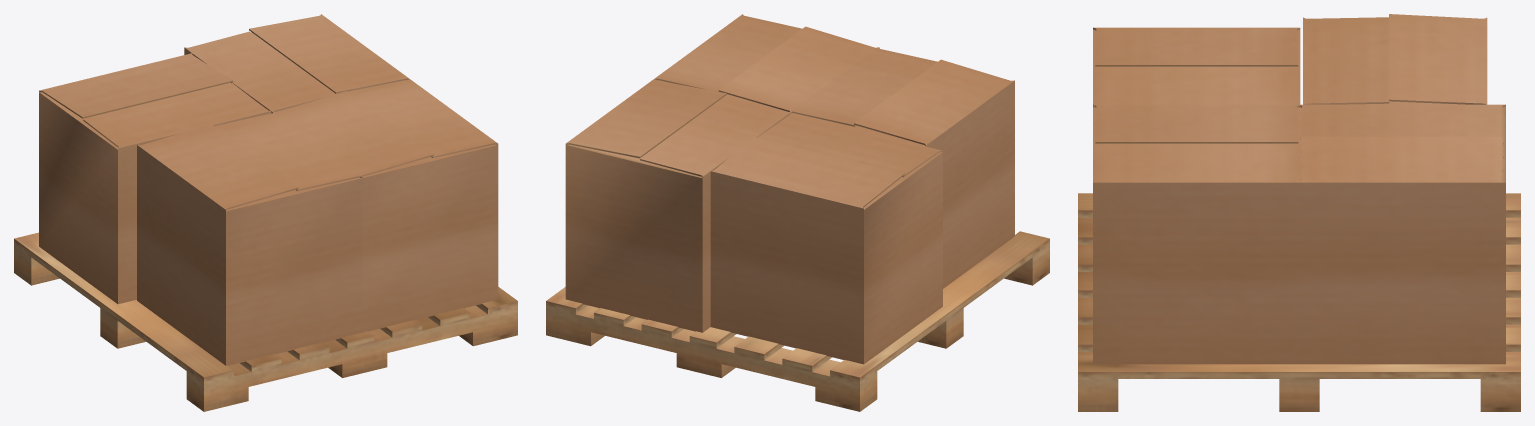
The model's file is Paleta1.fbx.
3 views of the same model, side by side, from view 1: azimuth 30°, elevation 25°; view 2: azimuth 150°, elevation 25°; view 3: azimuth 270°, elevation 25° (orthographic). The views are drawn at different scales.
Visible parts, largest first — view 1: Paleta1, palet1; view 2: Paleta1, palet1; view 3: Paleta1, palet1.
Boxes of the visible parts, x1,y1,x2,y2 form: Paleta1: (39, 14, 498, 365); palet1: (14, 232, 517, 411); Paleta1: (565, 14, 1014, 364); palet1: (546, 231, 1049, 411); Paleta1: (1093, 14, 1505, 364); palet1: (1078, 193, 1520, 411).
Bounding box in the file's own units: 459 × 271 × 481.
Materials: 1 (1 with a texture image).
